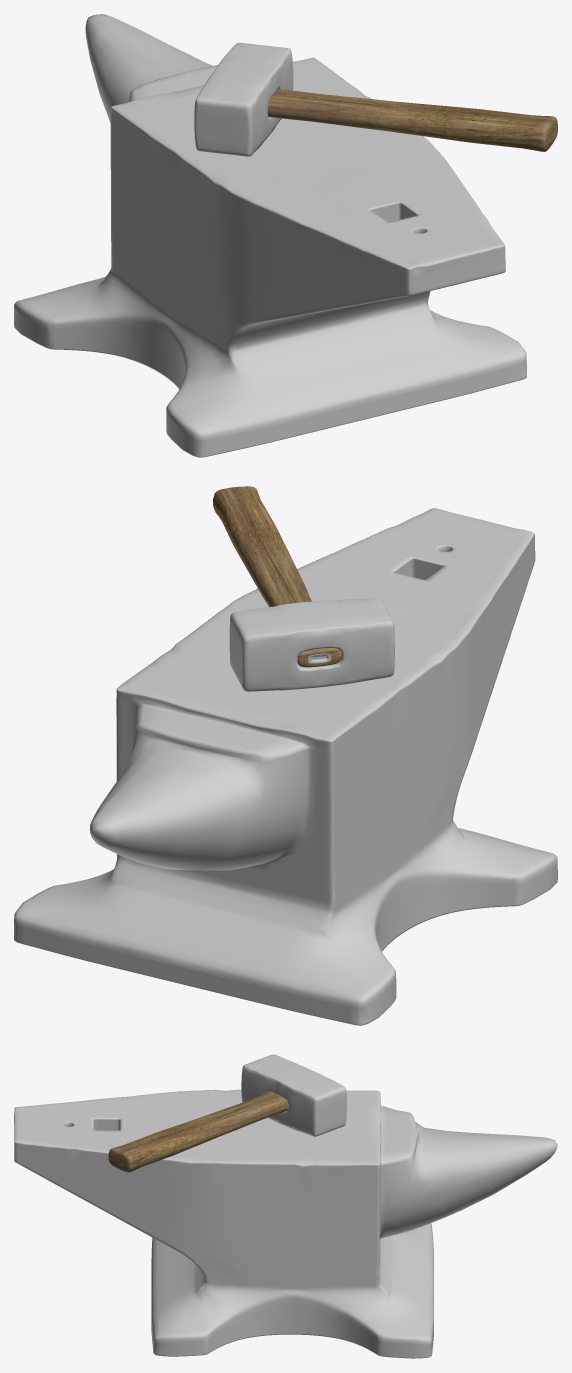
The model's file is hammerAnvil.dae.
3 renders of one model, top to bottom at view 1: azimuth 30°, elevation 25°; view 2: azimuth 150°, elevation 25°; view 3: azimuth 270°, elevation 25°, orthographic. The views are drawn at different scales.
Parts seen in each view (by area): view 1: body_pivot, wood_pivot; view 2: body_pivot, wood_pivot; view 3: body_pivot, wood_pivot.
Part boxes in pixels (box(x1,y1,x2,y2)): body_pivot: box(14, 14, 526, 457); wood_pivot: box(267, 89, 557, 151); body_pivot: box(14, 508, 557, 1025); wood_pivot: box(213, 486, 340, 667); body_pivot: box(14, 1054, 557, 1358); wood_pivot: box(108, 1092, 287, 1172).
Size of the model in its own units: 0.4245 by 0.7757 by 0.3365.
